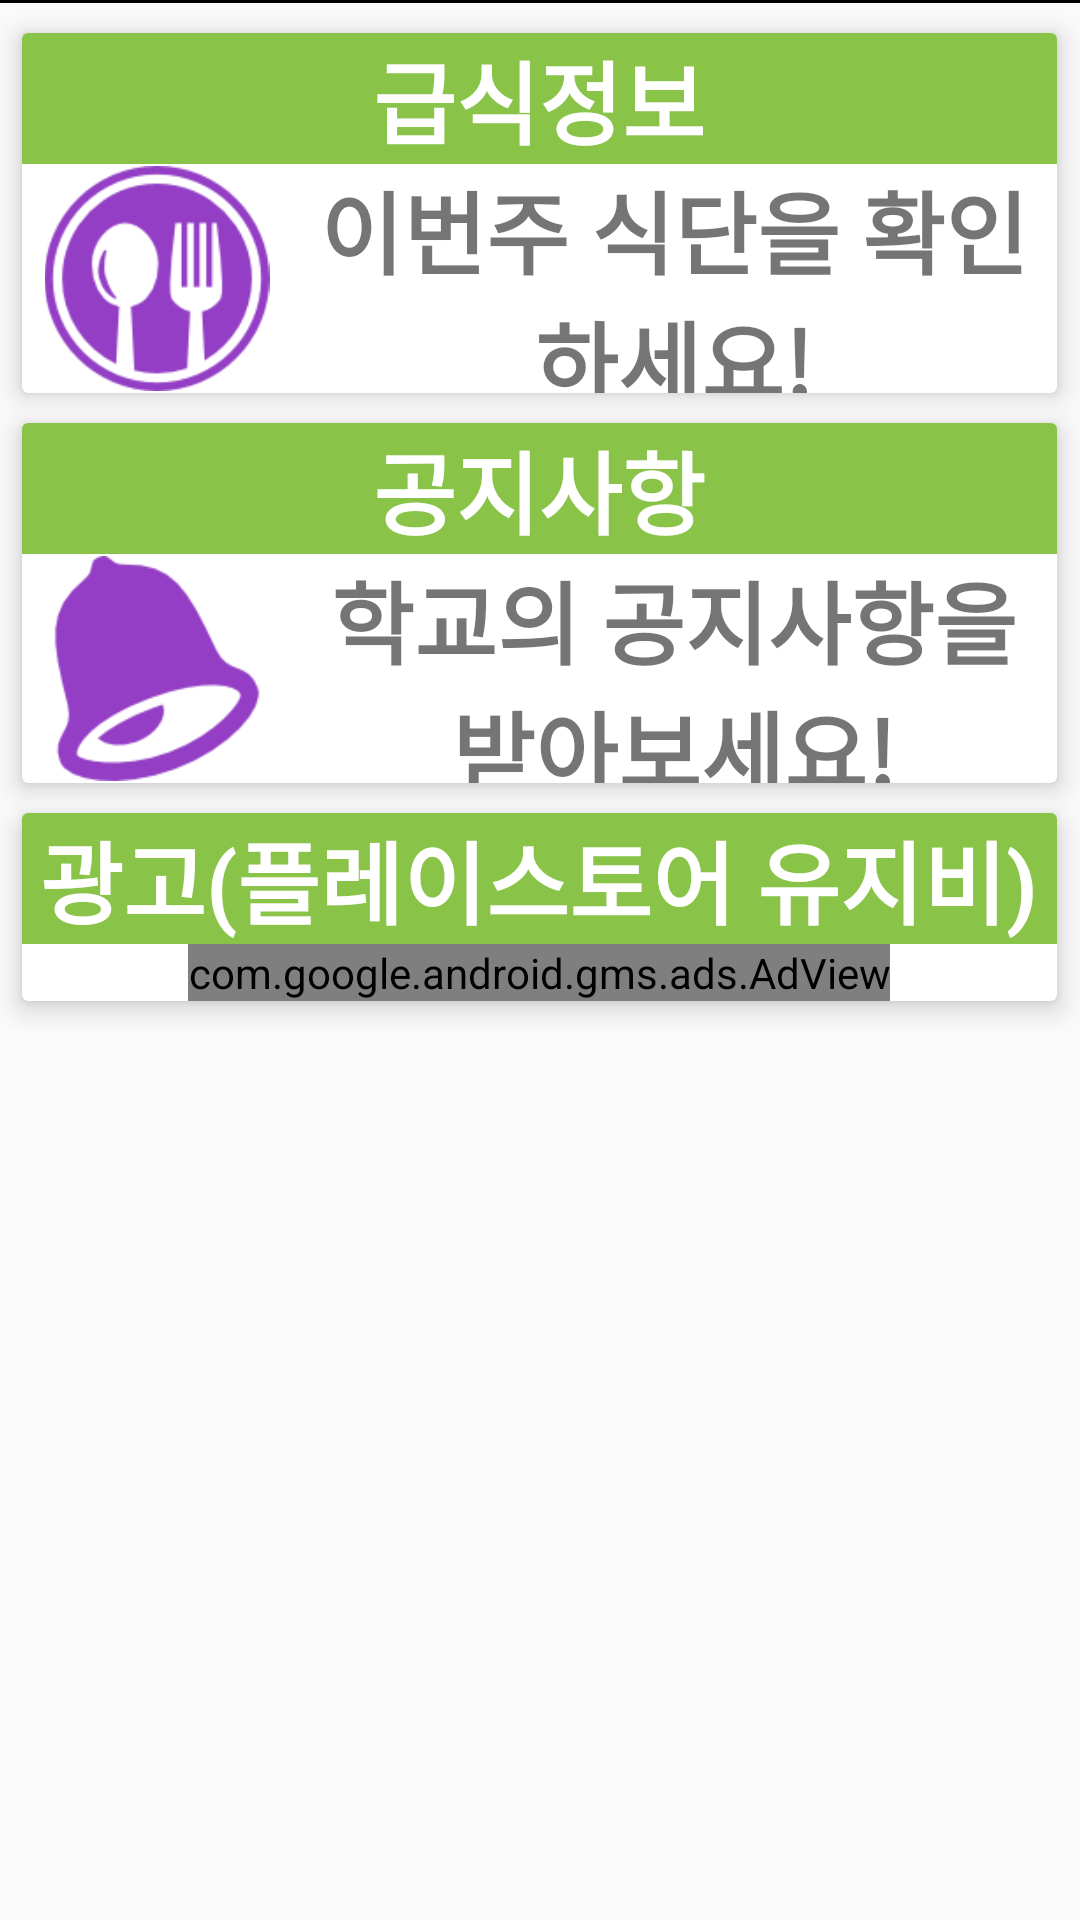

Icons on this 1080w x 1920h Android screen, each with the point to tap as point (x, y):
bap: point (157, 278)
noty: point (157, 668)
